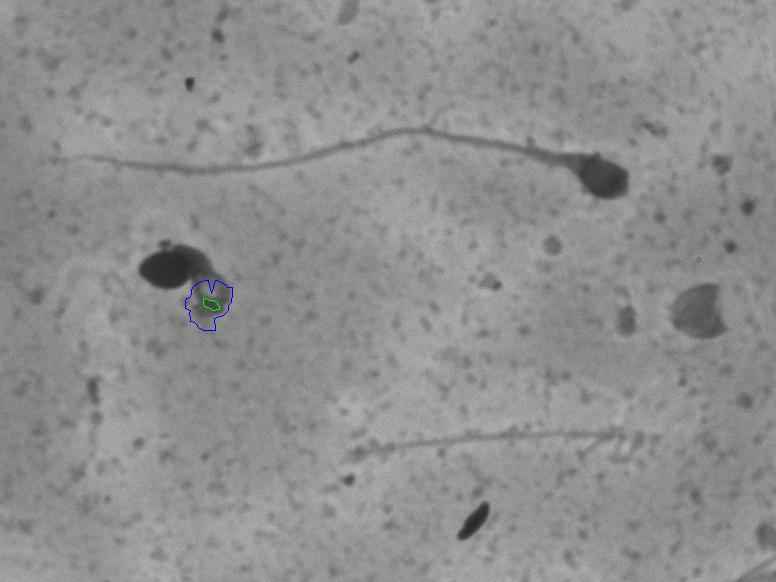Abnormal: (38, 110, 657, 222)
